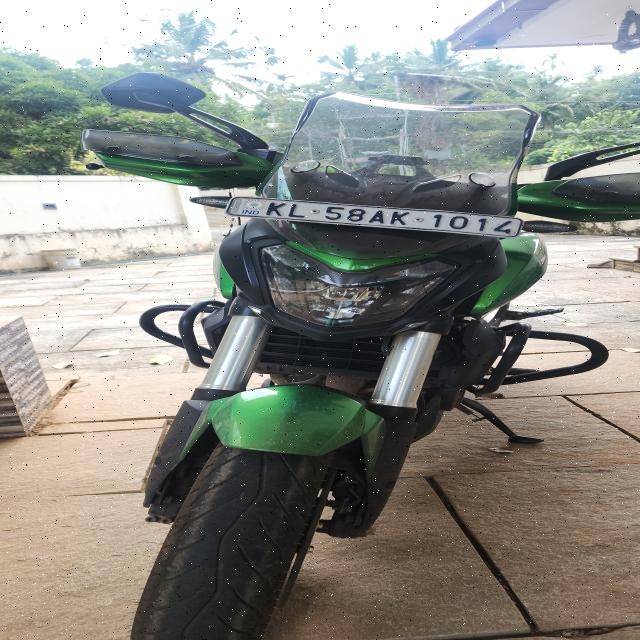headlight: (259, 242, 456, 328)
